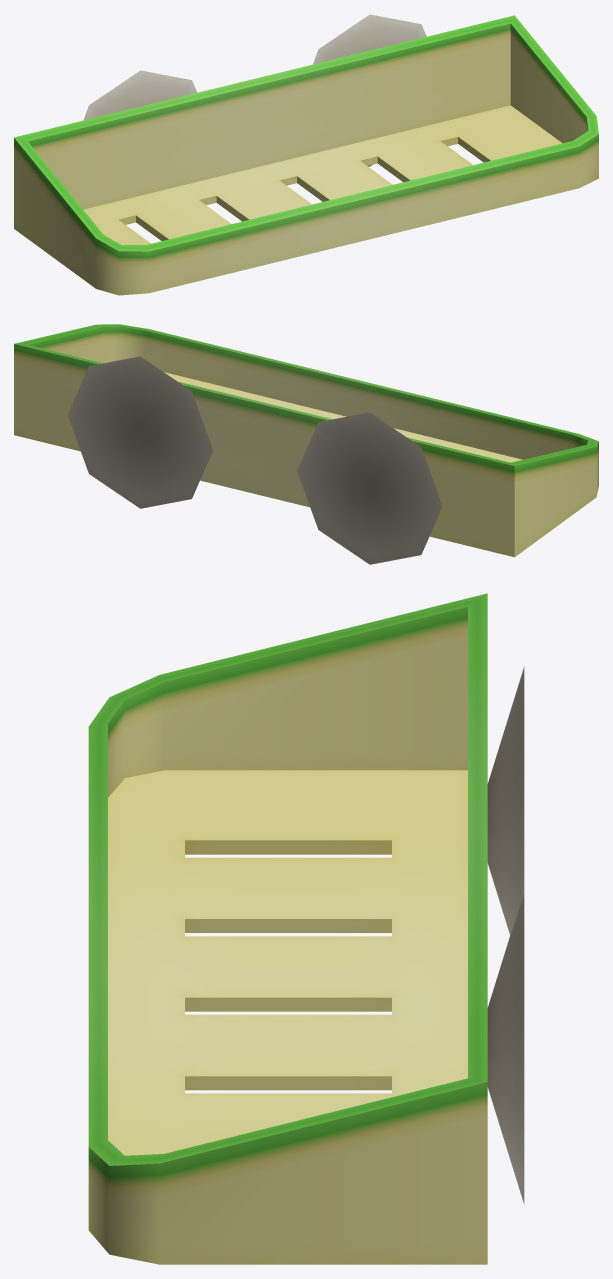
Rendered from KR_Place_sponge_01_01.fbx.
3 views of the same model, one above another, from view 1: azimuth 30°, elevation 25°; view 2: azimuth 150°, elevation 25°; view 3: azimuth 270°, elevation 25° (orthographic). The views are drawn at different scales.
Parts seen in each view (by area): view 1: kr_place_sponge_01_01; view 2: kr_place_sponge_01_01; view 3: kr_place_sponge_01_01.
Boxes of the visible parts, left/top/right/bottom form: kr_place_sponge_01_01: left=14, top=14, right=598, bottom=295; kr_place_sponge_01_01: left=14, top=324, right=598, bottom=564; kr_place_sponge_01_01: left=88, top=593, right=524, bottom=1264.
Bounding box in the file's own units: 28.45 × 8.28 × 10.73.
